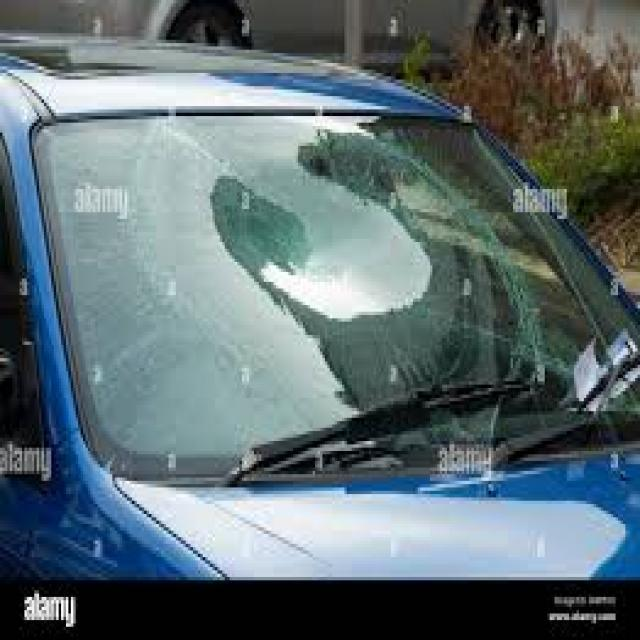damaged-windscreen: (44, 94, 640, 480)
